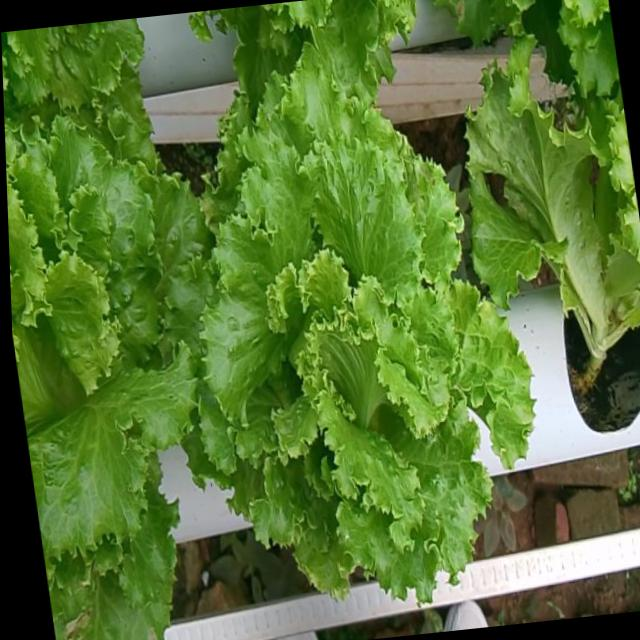Mature: (193, 81, 525, 614), (6, 128, 204, 575)
